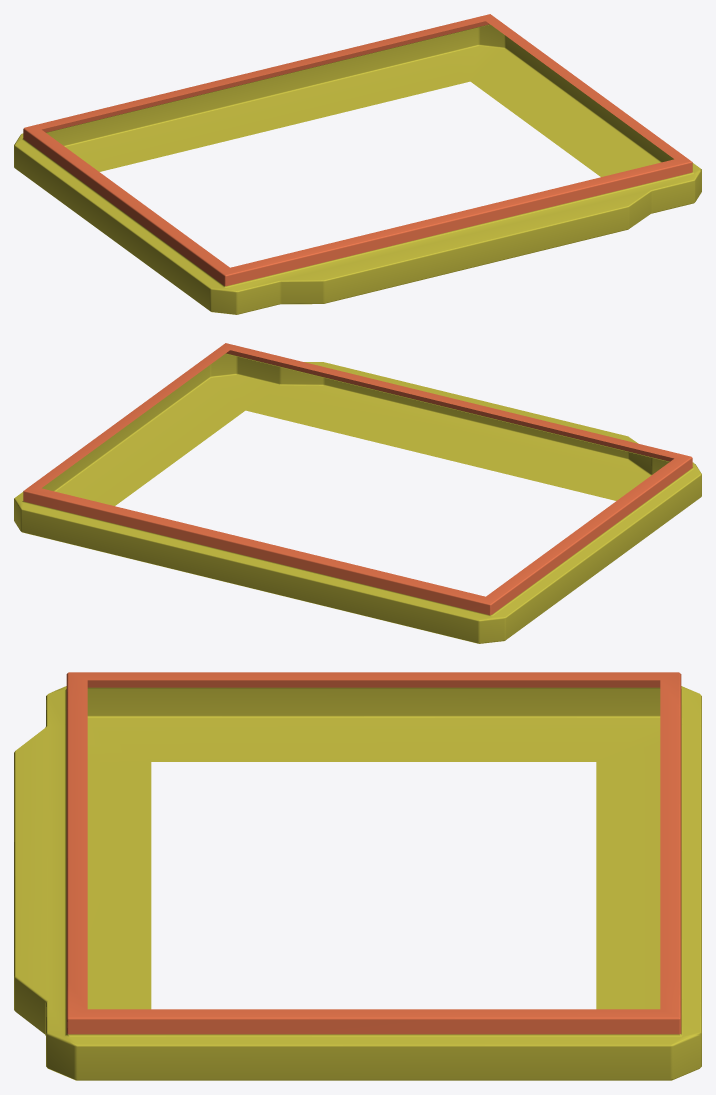
The model's file is LStruct_House_A.fbx.
3 renders of one model, top to bottom at view 1: azimuth 30°, elevation 25°; view 2: azimuth 150°, elevation 25°; view 3: azimuth 270°, elevation 25°, orthographic. The views are drawn at different scales.
Parts seen in each view (by area): view 1: Plane.001; view 2: Plane.001; view 3: Plane.001.
Boxes of the visible parts, left/top/right/bottom form: Plane.001: left=14, top=14, right=701, bottom=314; Plane.001: left=14, top=343, right=701, bottom=643; Plane.001: left=14, top=672, right=701, bottom=1080.
Bounding box in the file's own units: 821 × 57.59 × 655.
